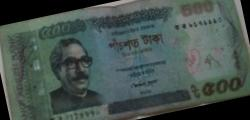500 taka: (10, 0, 247, 120)
